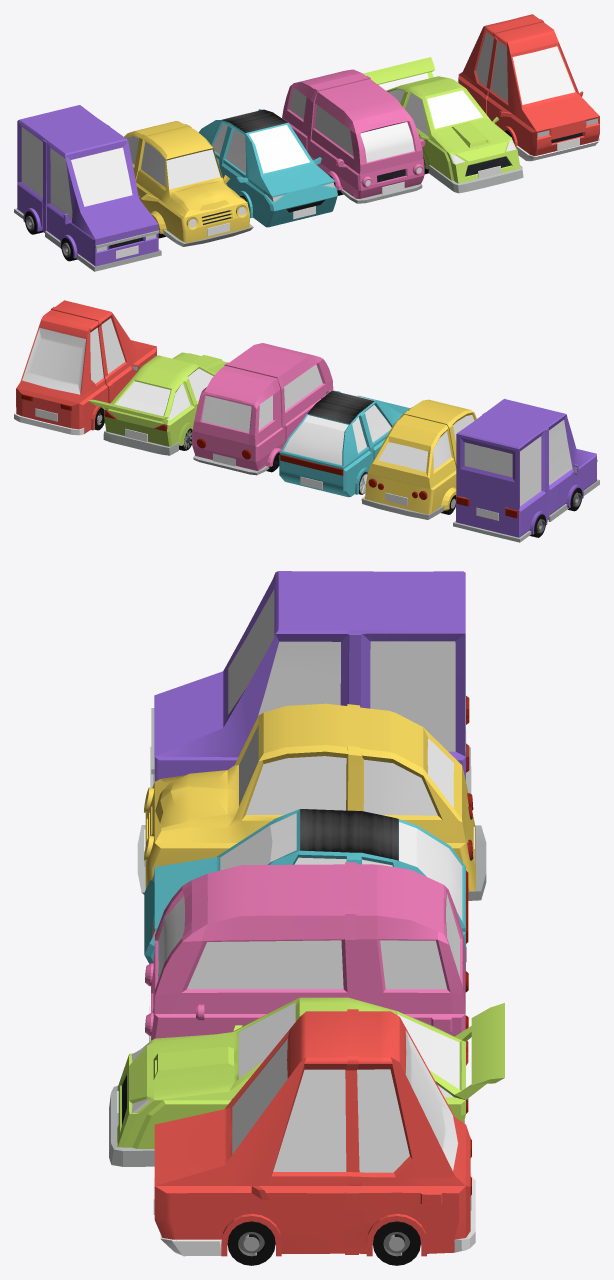
Rendered from ALLCARS-XO89DH2H.glb.
3 renders of one model, top to bottom at view 1: azimuth 30°, elevation 25°; view 2: azimuth 150°, elevation 25°; view 3: azimuth 270°, elevation 25°, orthographic. The views are drawn at different scales.
Bounding box in the file's own units: 12.35 × 2.29 × 4.09.
Materials: 36 (36 with a texture image).
